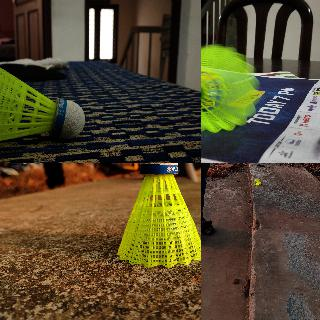shuttlecock: (116, 163, 200, 266), (0, 52, 85, 150), (201, 44, 259, 133), (254, 178, 262, 185)
